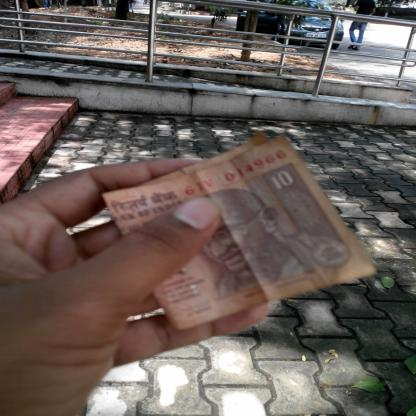Old10Front: (103, 132, 376, 331)
